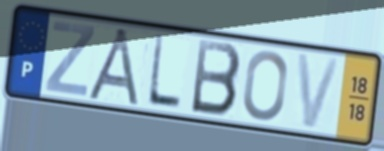A: (84, 26, 144, 109)
B: (188, 37, 244, 120)
L: (145, 32, 185, 112)
O: (240, 49, 290, 123)
V: (294, 50, 344, 131)
Z: (43, 19, 98, 99)
